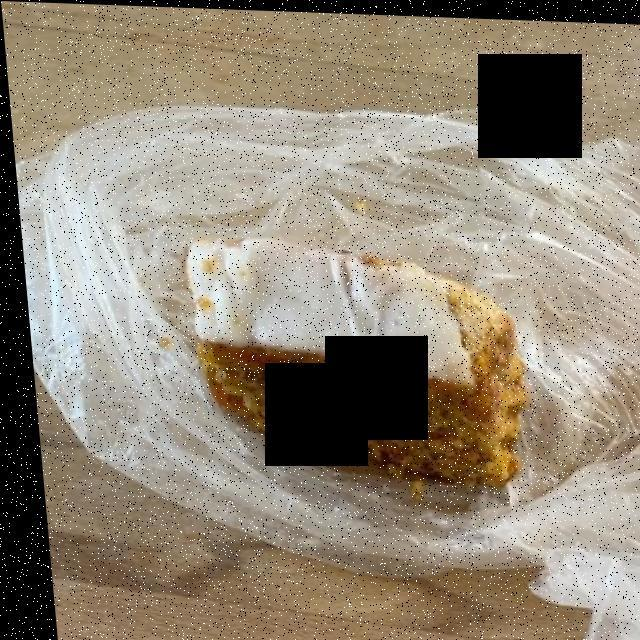cake: (181, 237, 512, 480)
